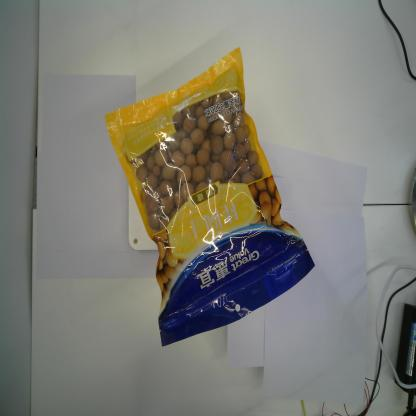Dried Food: (104, 46, 316, 348)
